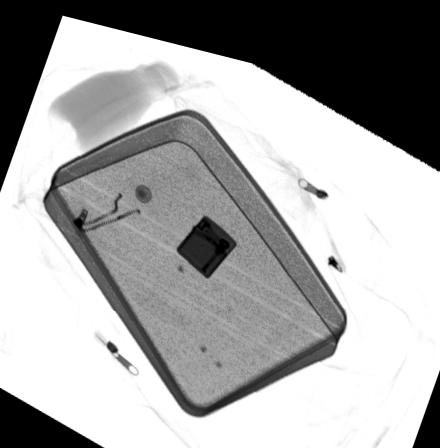Lighter: (175, 202, 239, 269)
